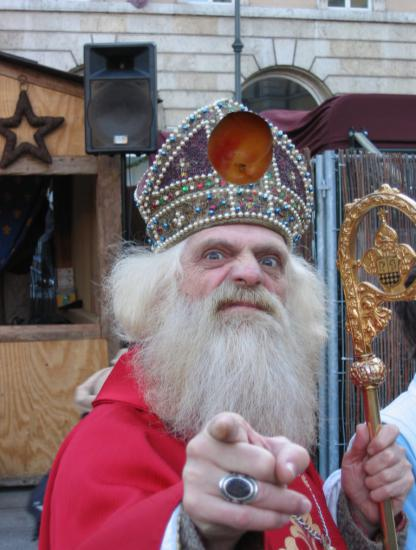Apricot: (204, 111, 279, 186)
